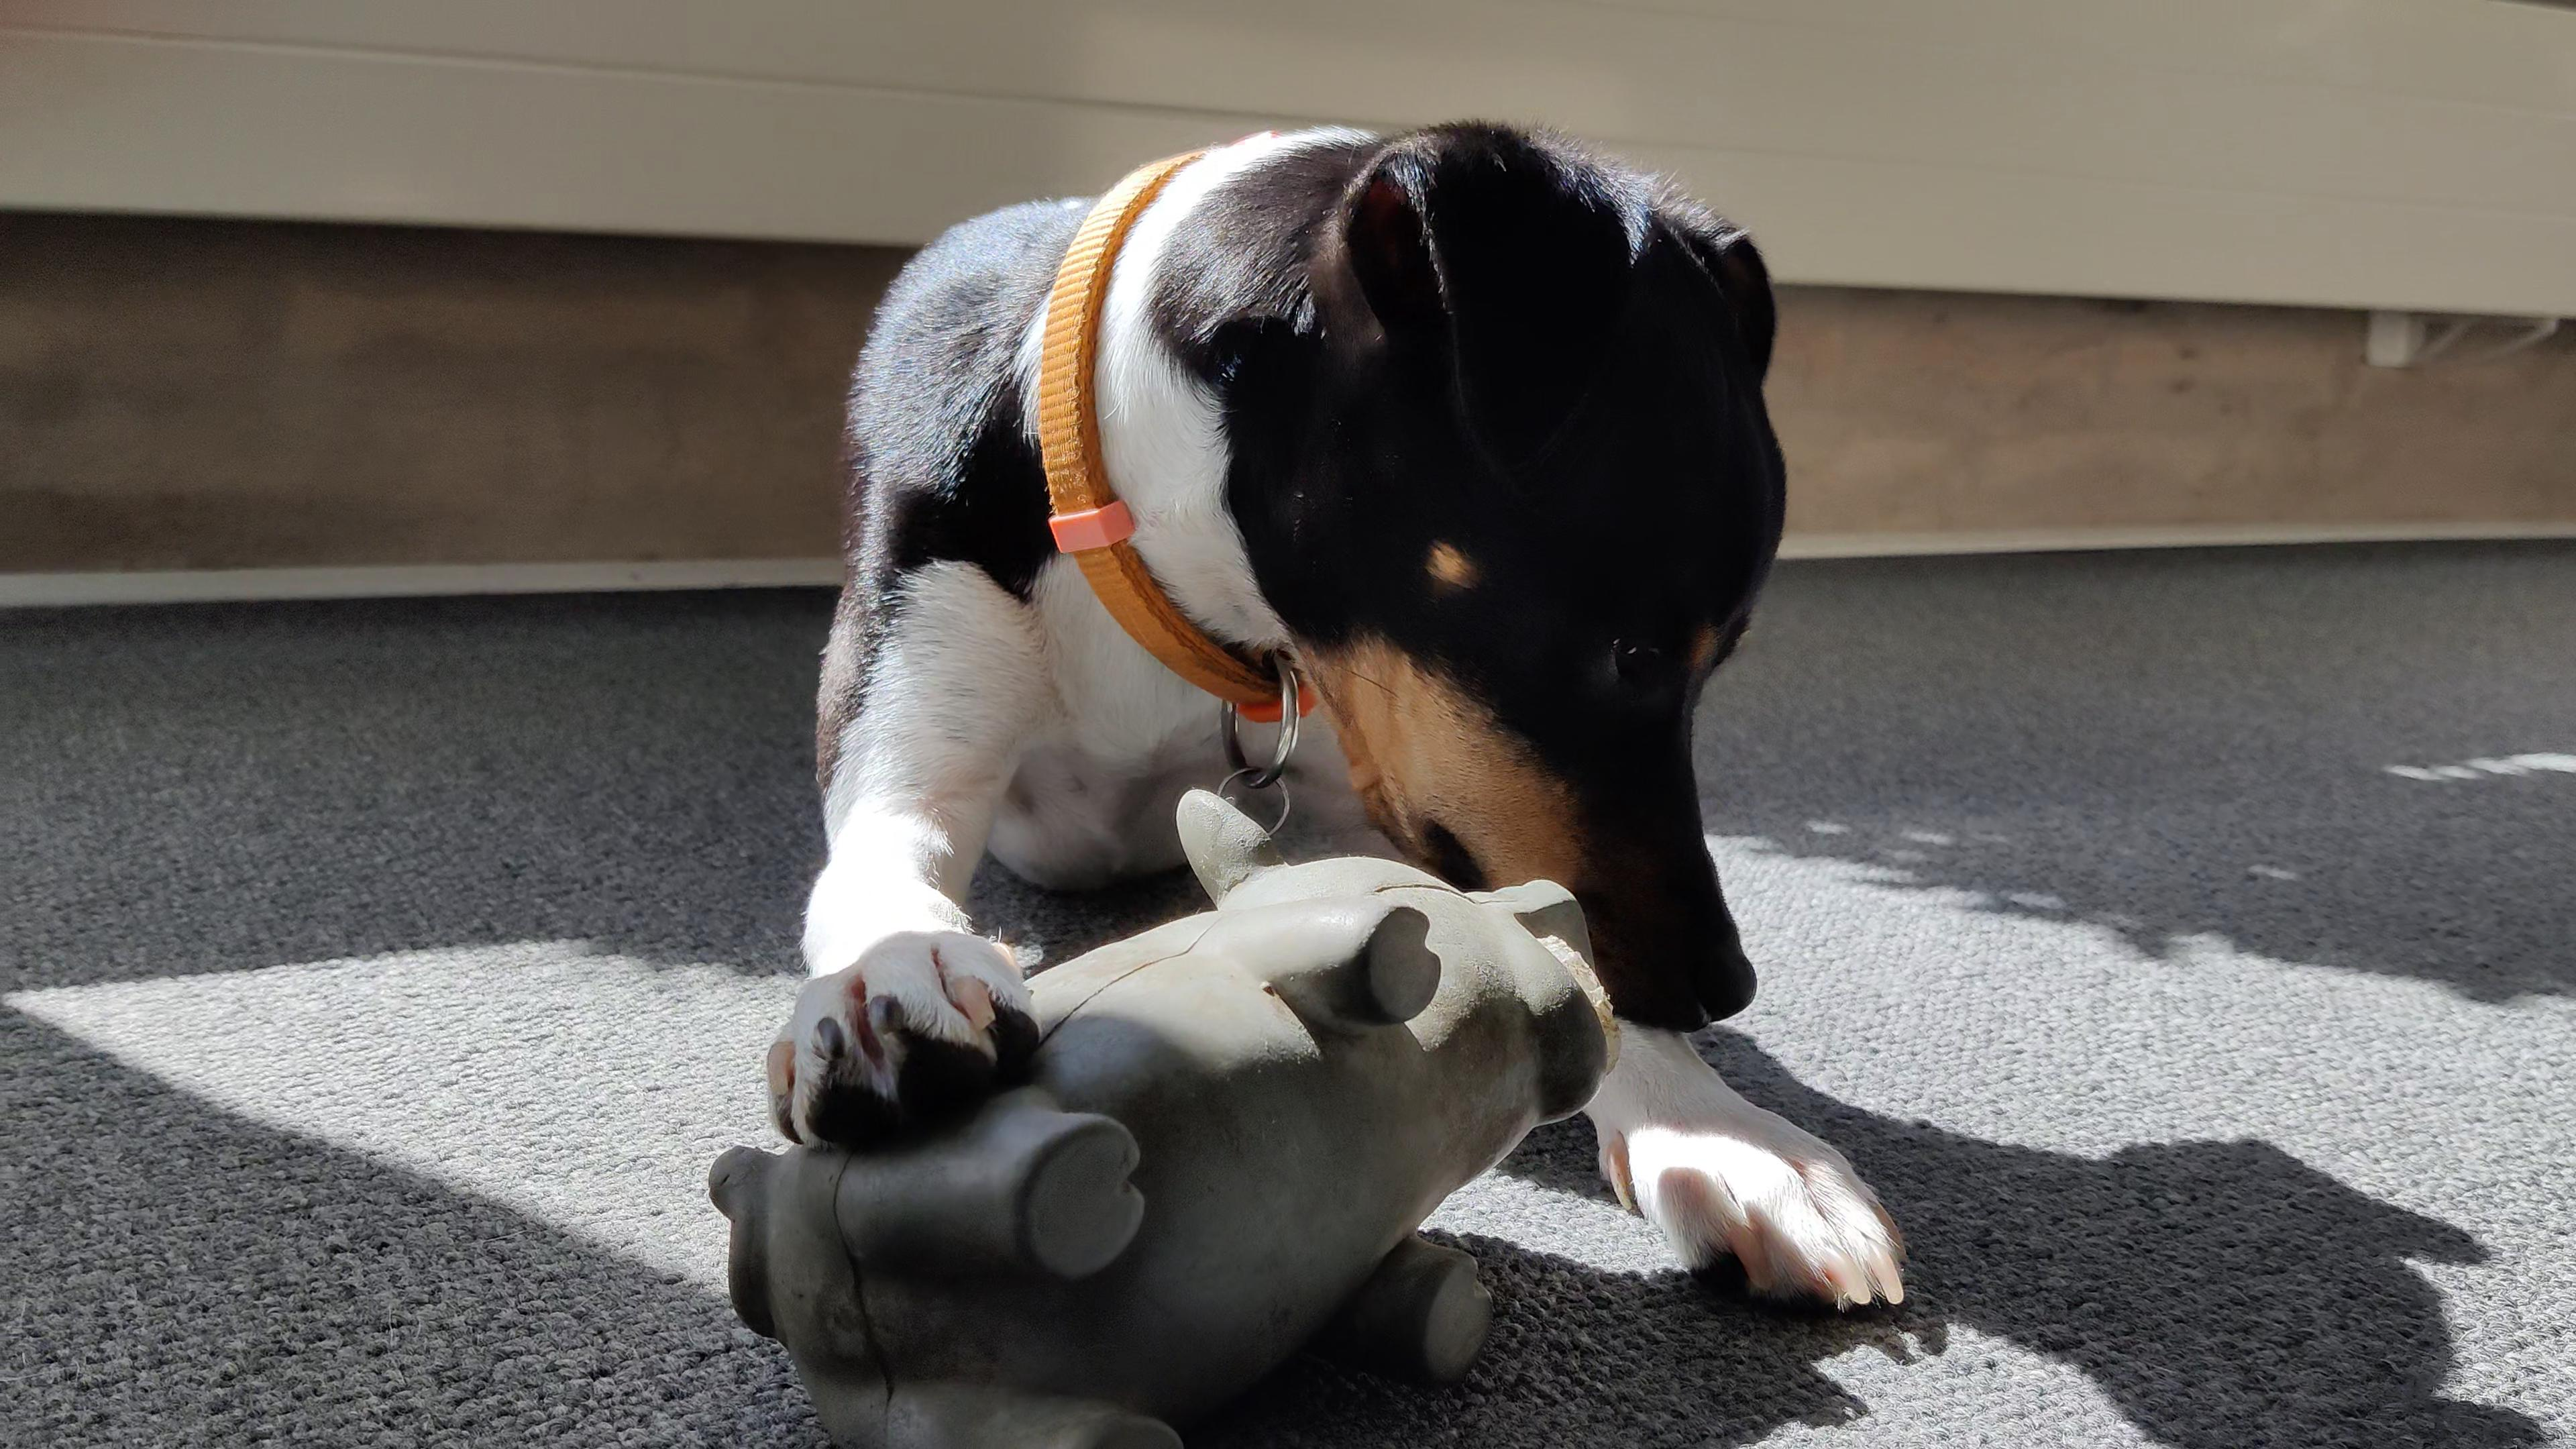Dog: (754, 64, 1957, 1336)
